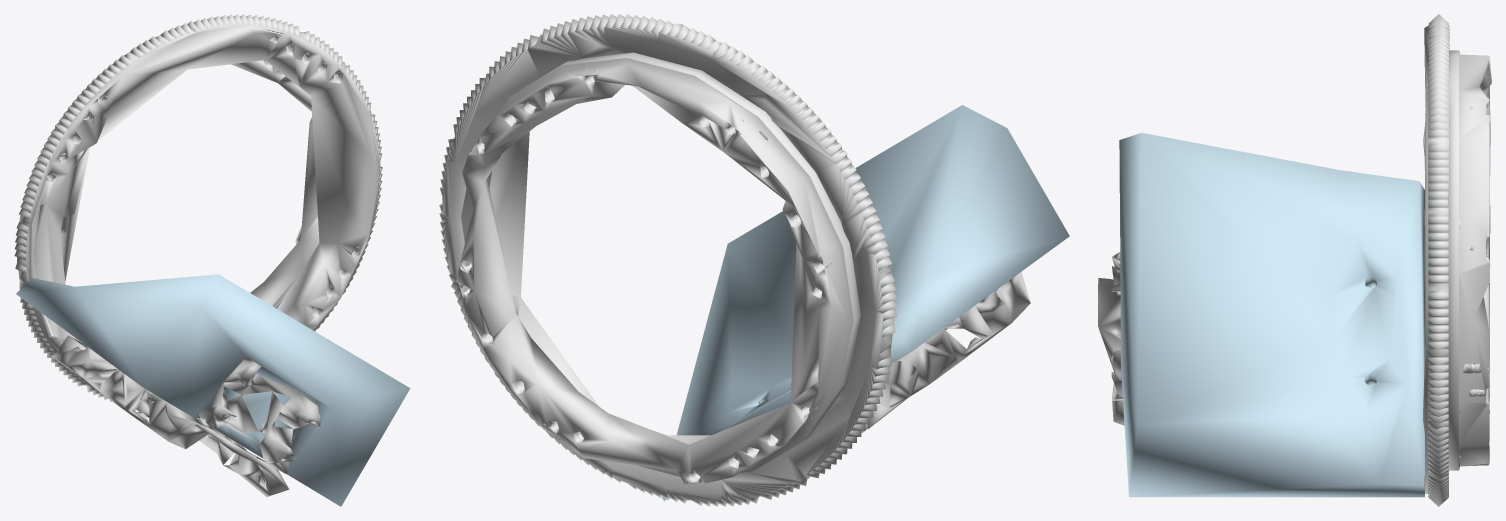
The picture shows the model from 3 angles, left to right: view 1: azimuth 30°, elevation 25°; view 2: azimuth 150°, elevation 25°; view 3: azimuth 270°, elevation 25°; orthographic projection. The views are drawn at different scales.
Visible parts, largest first — view 1: fixed wheel launcher <1> / 2026-09-17-10-27-35-299 <1> / 232, fixed wheel launcher <1> / Hood V59 <1>, fixed wheel launcher <1> / 3 Hole Lowside U-Channel (GB) <5>, fixed wheel launcher <1> / Mini Quad Block (GB) <1>, fixed wheel launcher <1> / 2026-09-17-10-27-35-299 <1> / 162, fixed wheel launcher <1> / Dual Block (GB) <11>; view 2: fixed wheel launcher <1> / 2026-09-17-10-27-35-299 <1> / 162, fixed wheel launcher <1> / Hood V59 <1>, fixed wheel launcher <1> / 2026-09-17-10-27-35-299 <1> / 232, fixed wheel launcher <1> / 3 Hole Lowside U-Channel (GB) <5>; view 3: fixed wheel launcher <1> / Hood V59 <1>, fixed wheel launcher <1> / 2026-09-17-10-27-35-299 <1> / 162, fixed wheel launcher <1> / 2026-09-17-10-27-35-299 <1> / 232, fixed wheel launcher <1> / 3 Hole Lowside U-Channel (GB) <5>, fixed wheel launcher <1> / Mini Quad Block (GB) <1>.
Boxes of the visible parts, <box> form: fixed wheel launcher <1> / 2026-09-17-10-27-35-299 <1> / 232: <box>14,14,382,401</box>; fixed wheel launcher <1> / Hood V59 <1>: <box>16,274,410,506</box>; fixed wheel launcher <1> / 3 Hole Lowside U-Channel (GB) <5>: <box>50,344,289,497</box>; fixed wheel launcher <1> / Mini Quad Block (GB) <1>: <box>199,357,320,474</box>; fixed wheel launcher <1> / 2026-09-17-10-27-35-299 <1> / 162: <box>231,60,319,308</box>; fixed wheel launcher <1> / Dual Block (GB) <11>: <box>55,335,149,417</box>; fixed wheel launcher <1> / 2026-09-17-10-27-35-299 <1> / 162: <box>456,52,860,484</box>; fixed wheel launcher <1> / Hood V59 <1>: <box>661,105,1069,500</box>; fixed wheel launcher <1> / 2026-09-17-10-27-35-299 <1> / 232: <box>439,14,897,506</box>; fixed wheel launcher <1> / 3 Hole Lowside U-Channel (GB) <5>: <box>868,272,1030,428</box>; fixed wheel launcher <1> / Hood V59 <1>: <box>1119,132,1425,497</box>; fixed wheel launcher <1> / 2026-09-17-10-27-35-299 <1> / 162: <box>1448,50,1491,470</box>; fixed wheel launcher <1> / 2026-09-17-10-27-35-299 <1> / 232: <box>1422,14,1449,506</box>; fixed wheel launcher <1> / 3 Hole Lowside U-Channel (GB) <5>: <box>1098,278,1124,425</box>; fixed wheel launcher <1> / Mini Quad Block (GB) <1>: <box>1111,252,1122,400</box>.
Bounding box in the file's own units: 0.1465 × 0.1473 × 0.1155.
